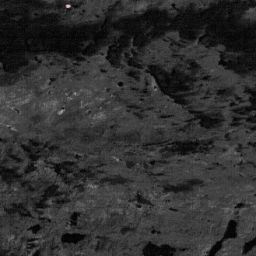Target: (64, 3, 71, 9)
